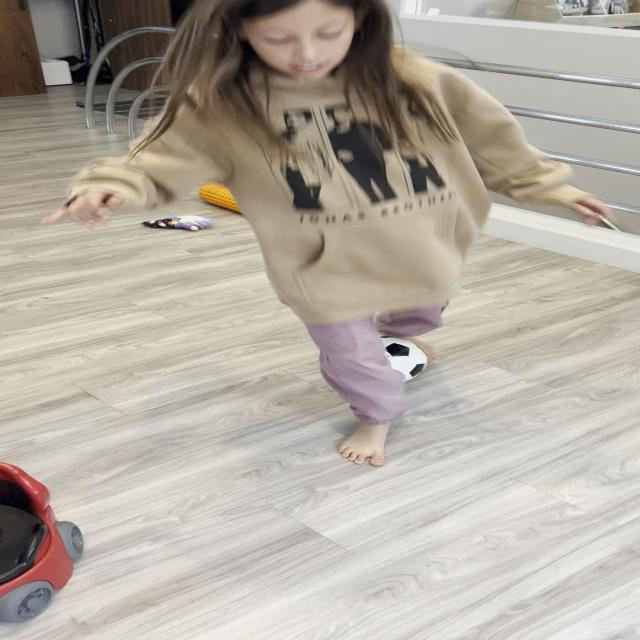Soccer Ball: (343, 336, 426, 380)
